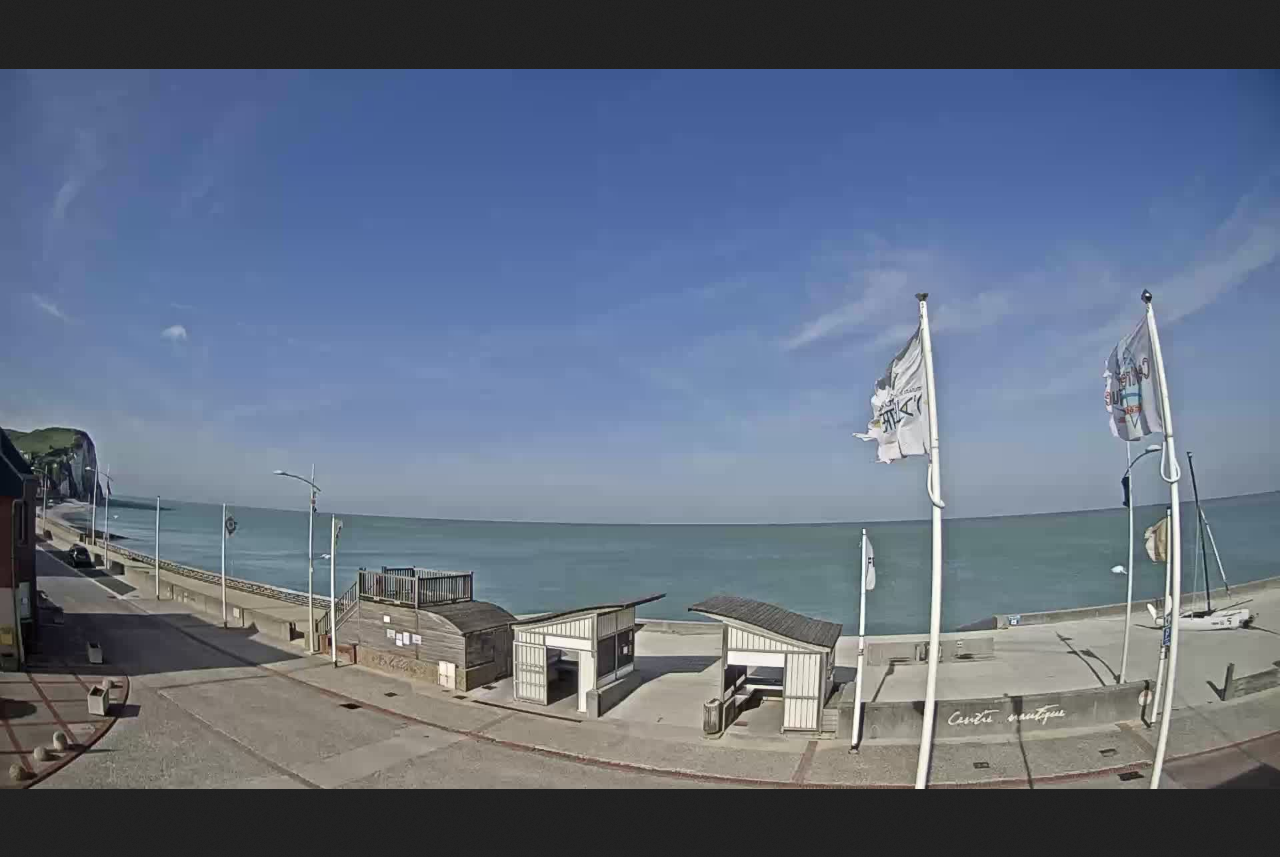yes: (854, 325, 941, 472), (1102, 315, 1176, 448), (1143, 516, 1176, 572)
